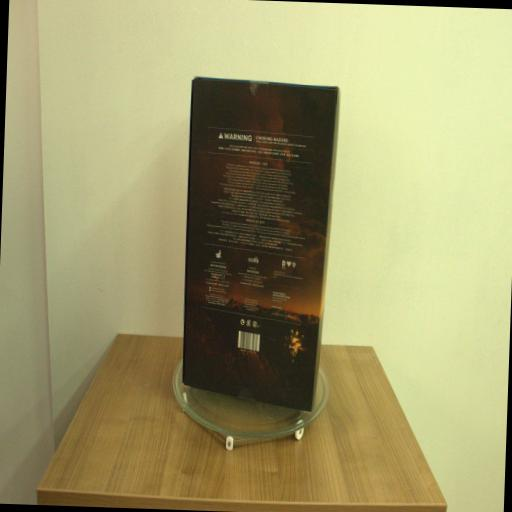superman: (180, 73, 342, 411)
